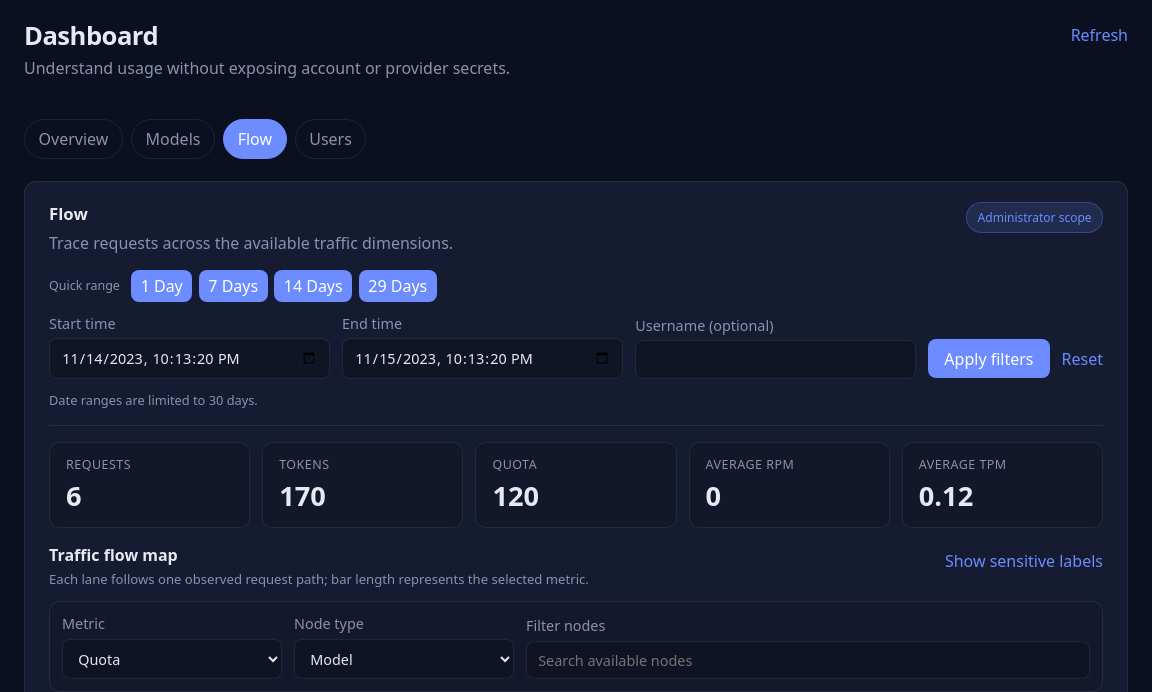
Scenario: DashboardView › masks every secondary flow surface and applies OR-within-kind node filters
The width and height of the screenshot is (1152, 692).
Check: the button "Show sensitive labels" is shown, box left=945, top=544, right=1103, bottom=578
Check: the text "alice" is not shown
Select "User" in the dropdown labelled "Node type" at (404, 659), box left=294, top=639, right=514, bottom=679
(page scrolled)
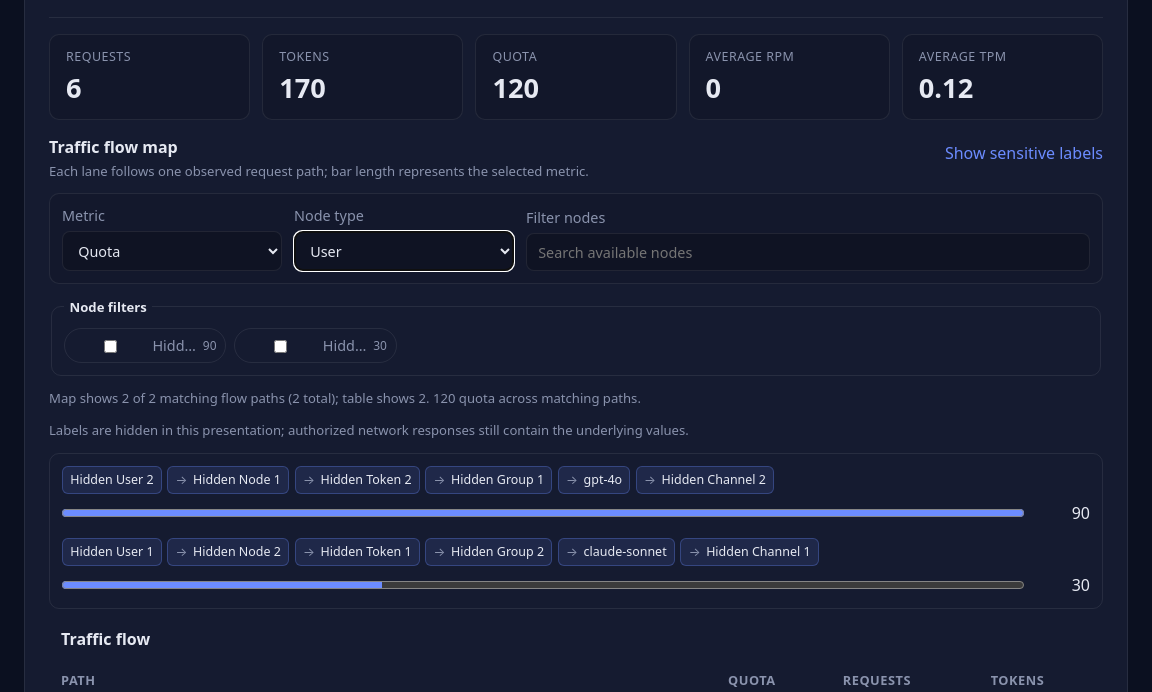
Click the checkbox labelled "Hidden User 2 90" at (110, 347), box left=78, top=340, right=143, bottom=353
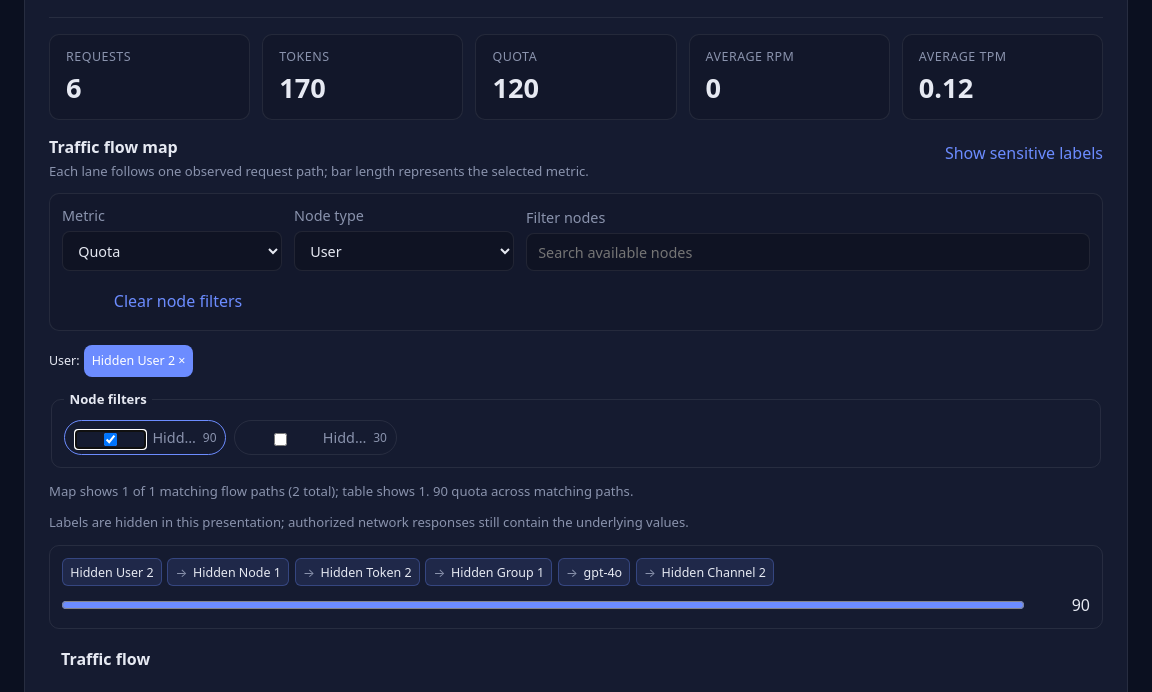
Check: the text "Map shows 1 of 1 matching flow paths (2 total); table shows 1." is shown, box left=49, top=482, right=430, bottom=500
Click the button "Show sensitive labels" at (1024, 153), box left=945, top=136, right=1103, bottom=170
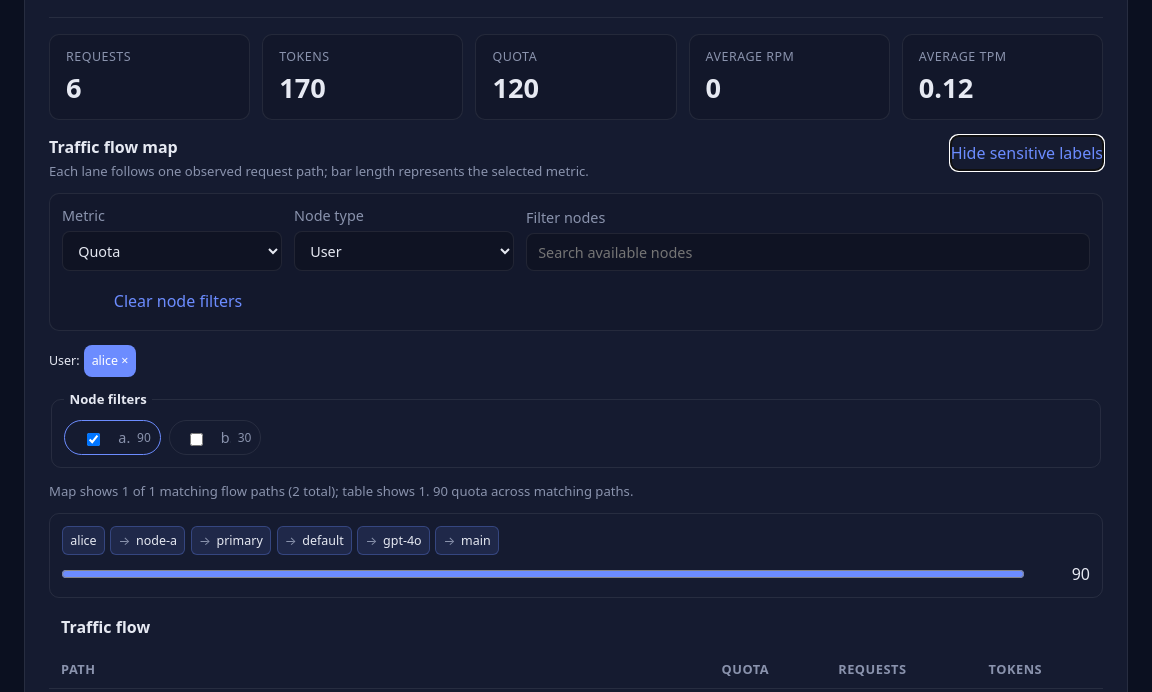
Check: the button "alice ×" is shown, box left=84, top=345, right=136, bottom=377
